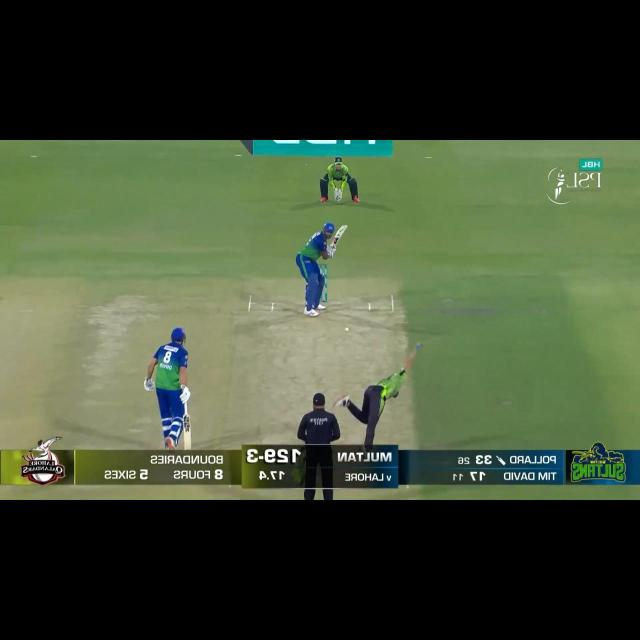bat: (331, 225, 348, 248), (183, 417, 193, 452)
toe: (341, 223, 348, 230), (184, 445, 191, 450)
